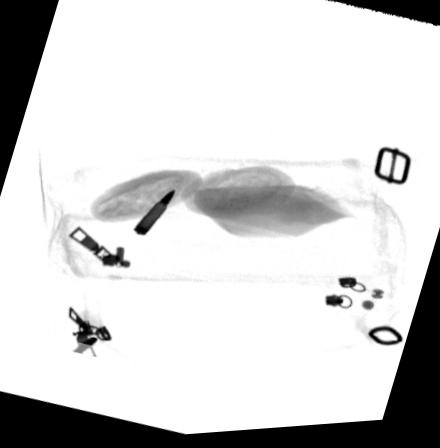Bullet: (132, 191, 174, 238)
